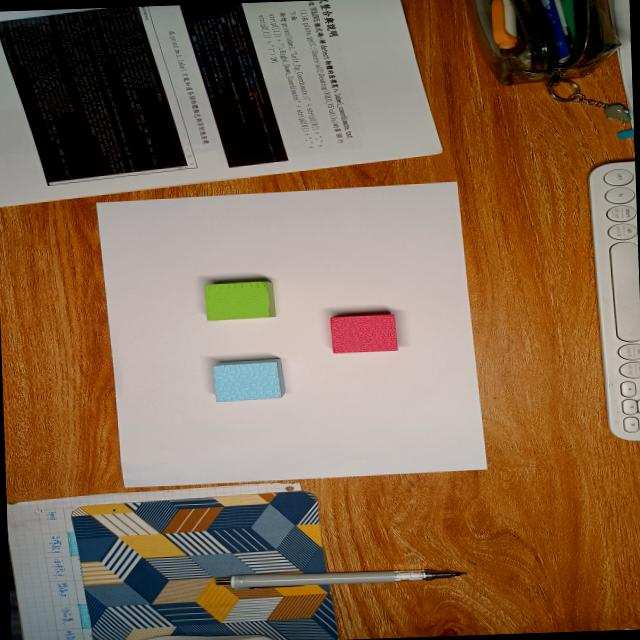BLUE: (210, 358, 287, 402)
GREEN: (202, 281, 277, 321)
RED: (328, 313, 399, 354)
